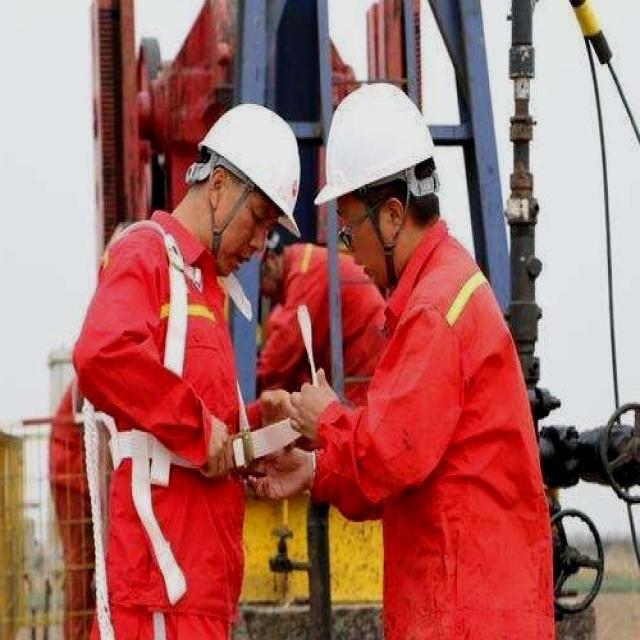Con_Casco: (315, 80, 445, 291), (195, 101, 305, 273)
